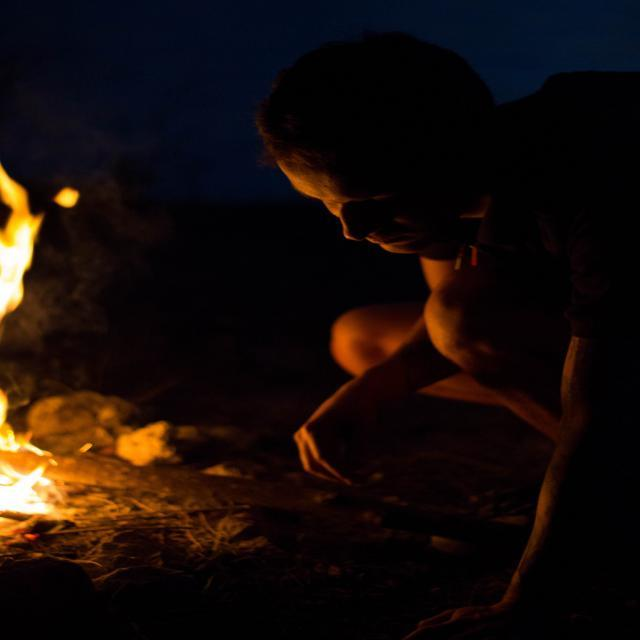Fire: (0, 206, 42, 310), (4, 441, 52, 528)
